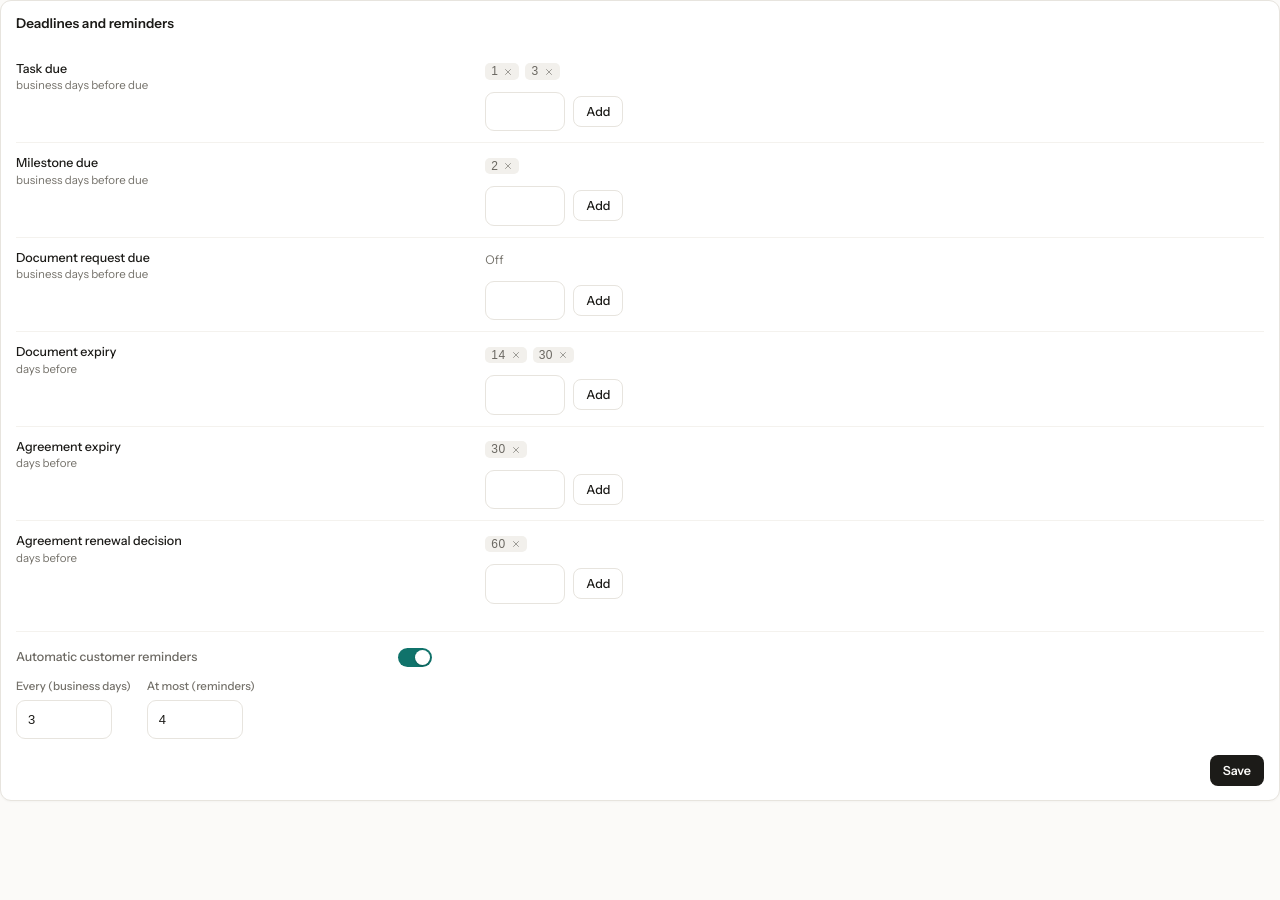
Test: HorizonsCard › refuses 1.5 with an inline message
The image size is (1280, 900).
Type "1.5" into the 1st number field named "Lead time in days". click: (525, 111)
box: [485,92,565,131]
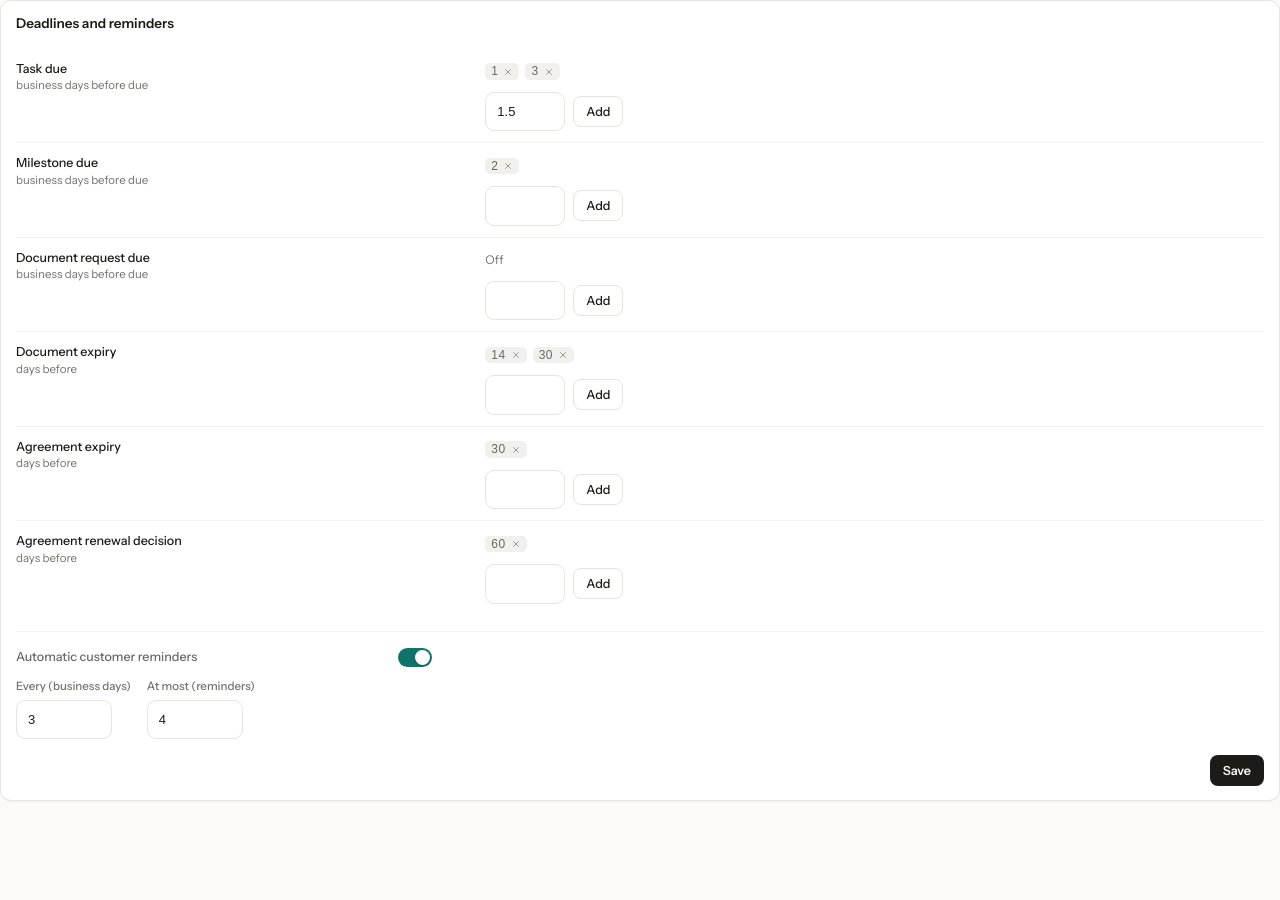
Click the button with aria-label "Add lead time". click: click(598, 111)
box: [573,96,623,127]
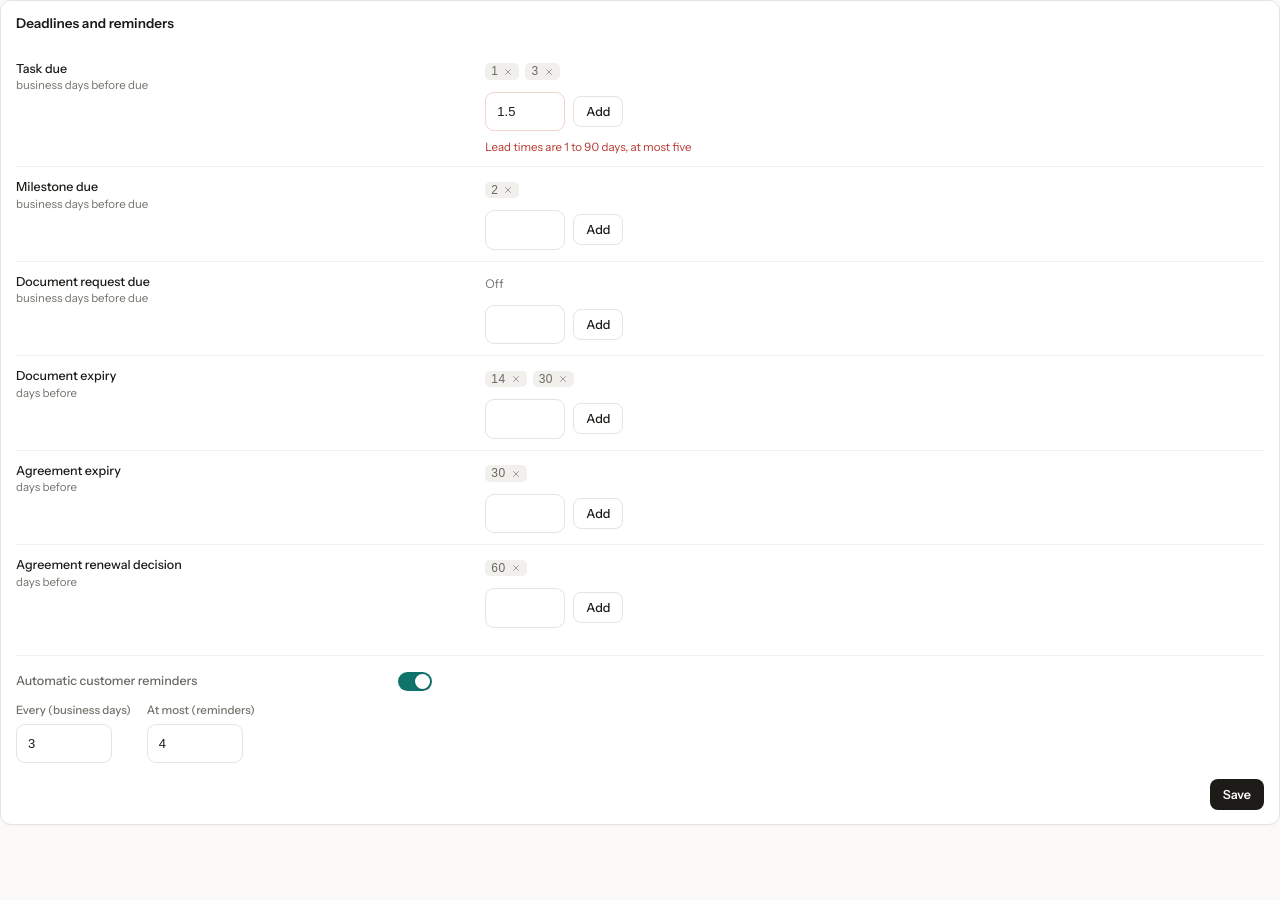
Expected: the number of buttons named "Remove" is 2, [485,63,520,80]; [526,63,560,80]
Now the message reads "Lead times are 1 to 90 days, at most five", box [485,140,692,154]
